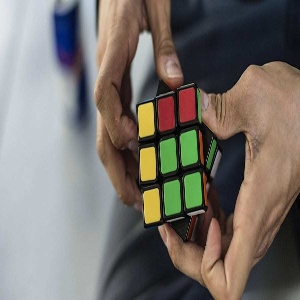cube: (136, 81, 221, 246)
